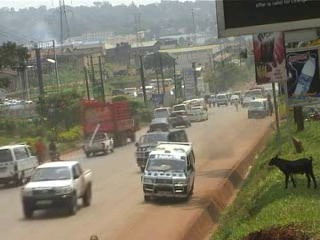Car: (167, 108, 195, 130), (147, 114, 171, 134), (189, 106, 211, 123)
Motorcycle: (47, 144, 61, 161)
